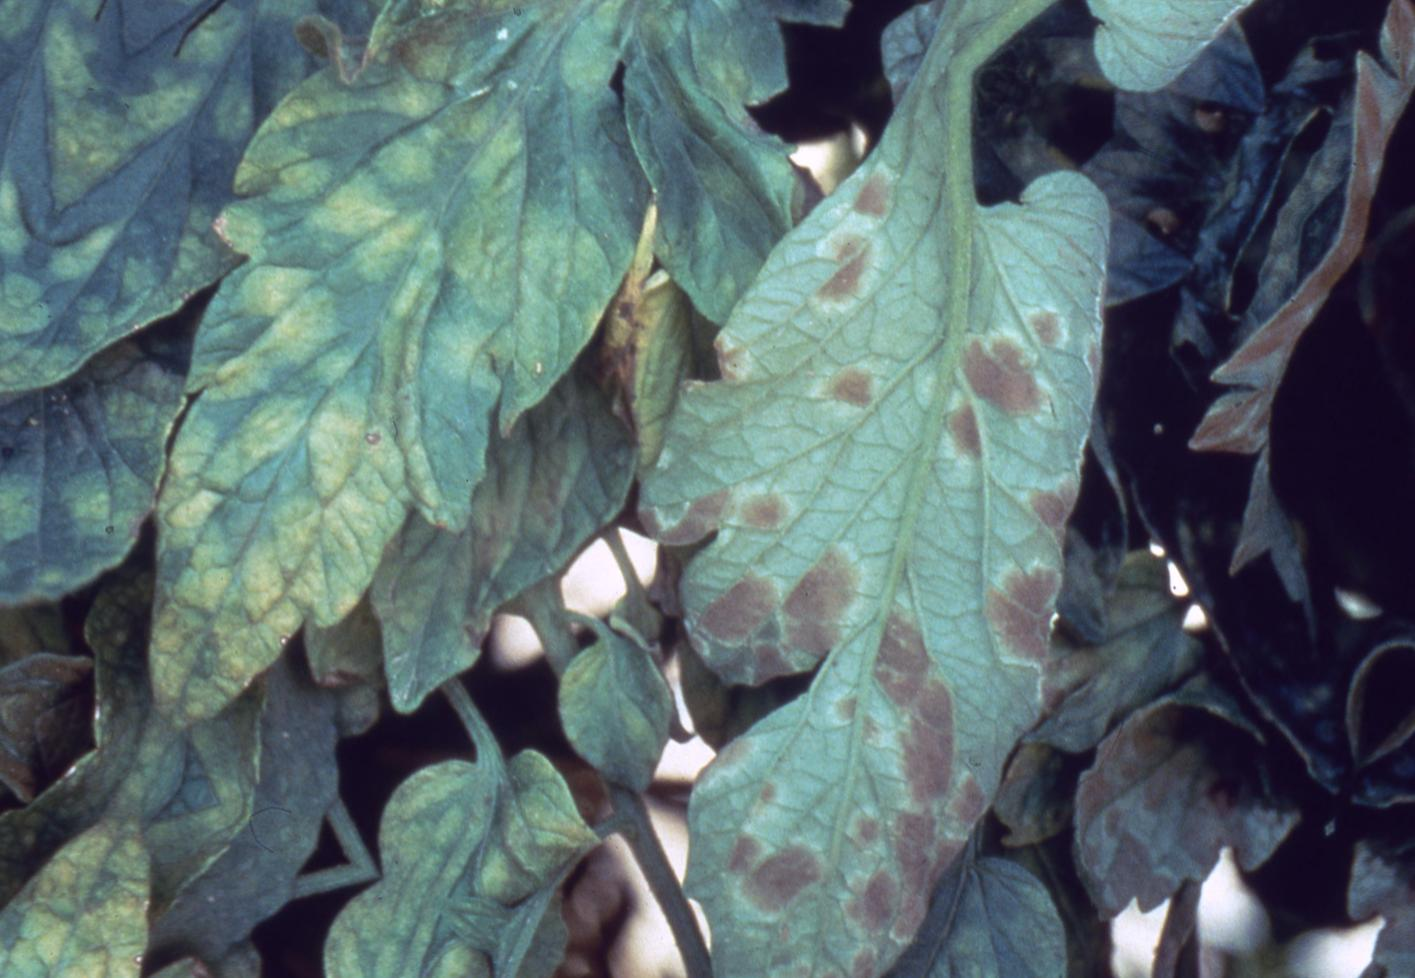Tomato mold leaf: (444, 26, 1281, 978), (0, 0, 739, 828), (0, 0, 442, 552), (348, 696, 645, 963)
